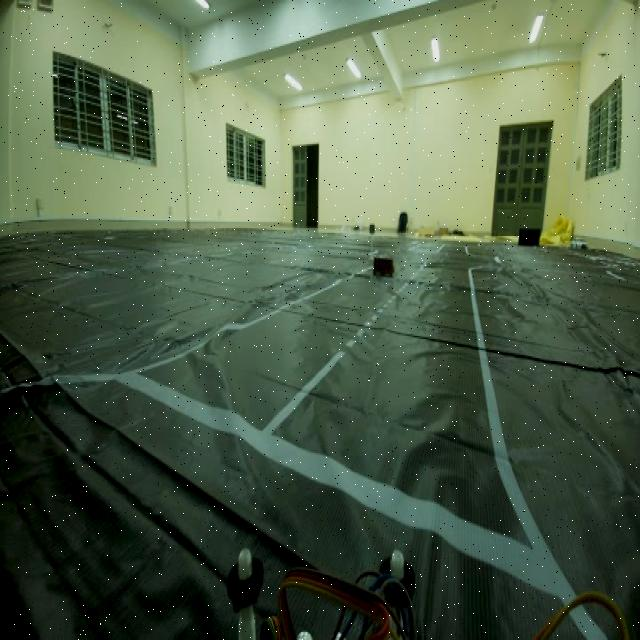roadblock: (370, 251, 396, 283)
